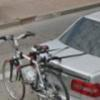bicycles: (0, 29, 72, 100)
